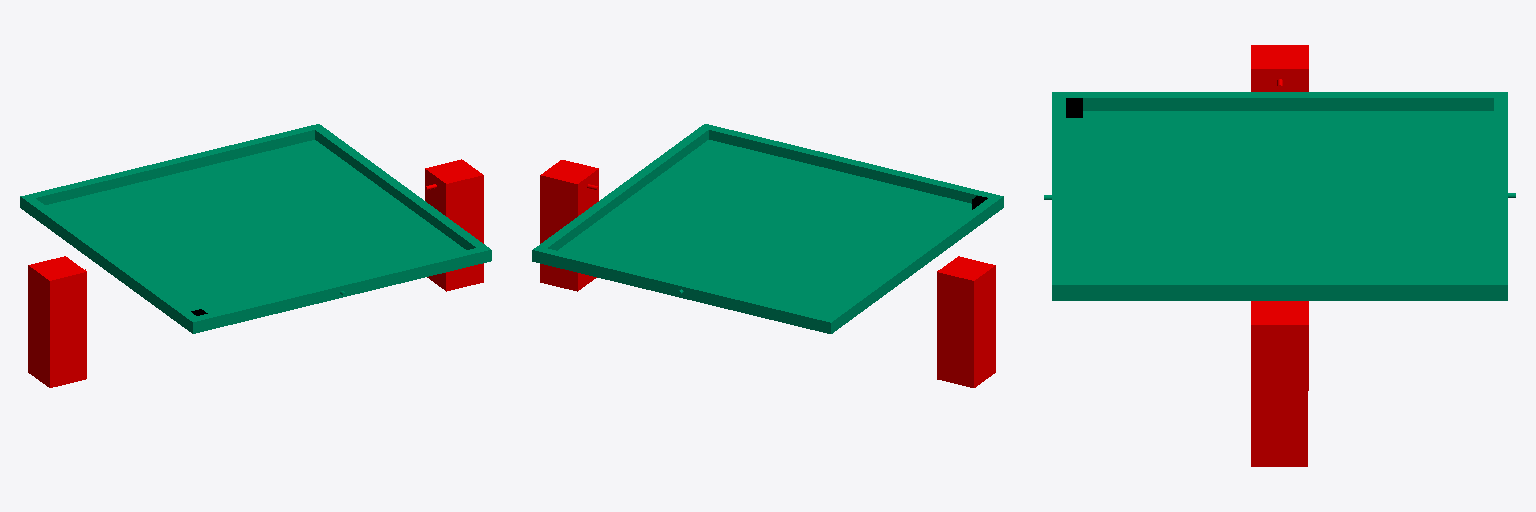
The robot description file, URDF, robot "Labyrinth":
<?xml version="1.0" encoding="UTF-8"?>
<robot name="Labyrinth">
  <link name="Support">
    <visual>
      <origin xyz="0. 0. 0." rpy="1.57 0. 0. "/>
      <geometry>
        <mesh filename="meshes/Support.STL" scale="0.001 0.001 0.001"/>
      </geometry>
      <material name="Red">
          <color rgba="1.0 0.0 0.0 1.0"/> <!-- RGB + Alpha (transparency) -->
      </material>
    </visual>
  </link>  

  <link name="OuterDOF">
    <visual>
      <origin xyz="0.0 0.0 -0.1" rpy="1.57 0. 0. "/>
      <geometry>
        <mesh filename="meshes/OuterDOF.STL" scale="0.001 0.001 0.001"/>
      </geometry>
    </visual>
  </link> 

  <link name="InnerDOF">
    <visual>
      <origin xyz="0.0 0.0 -0.1" rpy="1.57 0. 0. "/>
      <geometry>
        <mesh filename="meshes/InnerDOF.STL" scale="0.001 0.001 0.001"/>
      </geometry>
    </visual>
  </link> 

  <link name="InnerDOFWalls">
    <visual>
      <origin xyz="0.0 0.0 -0.1" rpy="1.57 0. 0. "/>
      <geometry>
        <mesh filename="meshes/generated_simple_maze_01.stl" scale="0.001 0.001 0.001"/>
      </geometry>
      <material name="Black">
          <color rgba="0.0 0.0 0.0 1.0"/> <!-- RGB + Alpha (transparency) -->
      </material>
    </visual>
  </link> 

  <joint name="InnerDOF_RevoluteJoint" type="continuous">
    <origin xyz="0.0 0.0 0.0" rpy="0.0 0. 0."/>
    <parent link="OuterDOF"/>
    <child link="InnerDOF"/>
    <axis xyz="0. 1. 0."/>
    <limit lower="-0.26179" upper="0.26179" effort="100.0" velocity="100.0"/>
  </joint>

  <joint name="OuterDOF_RevoluteJoint" type="continuous">
    <origin xyz="0.0 0.0 0.1" rpy="0. 0. 0."/>
    <parent link="Support"/>
    <child link="OuterDOF"/>
    <axis xyz="1. 0. 0."/>
    <limit lower="-0.26179" upper="0.26179" effort="100.0" velocity="100.0"/>
  </joint>

  <joint name="FixedWallJoint" type="fixed">
    <origin xyz="0.0 0.0 0.0" rpy="0. 0. 0."/>
    <parent link="InnerDOF"/>
    <child link="InnerDOFWalls"/>
  </joint>
</robot>

--- Render facts (derived) ---
Views: 3 orthographic renders of the robot side by side, from view 1: azimuth 30°, elevation 25°; view 2: azimuth 150°, elevation 25°; view 3: azimuth 270°, elevation 25°.
Robot: Labyrinth — 4 links, 3 joints (2 continuous, 1 fixed); root link Support; default pose: every joint at zero.
Links seen in each view (by area): view 1: InnerDOF, Support; view 2: InnerDOF, Support; view 3: InnerDOF, Support.
Boxes of the visible links, x1,y1,x2,y2 form: InnerDOF: (20,124,491,333); Support: (28,159,483,387); InnerDOF: (532,124,1003,333); Support: (540,160,995,387); InnerDOF: (1044,92,1515,300); Support: (1251,45,1308,466).
Size in the robot's own frame: 0.465 by 0.33 by 0.11 metres.
3 mesh visuals loaded from 4 distinct referenced files (3 binary STL); not drawn: 1 (reference not matched to a file when rendering).